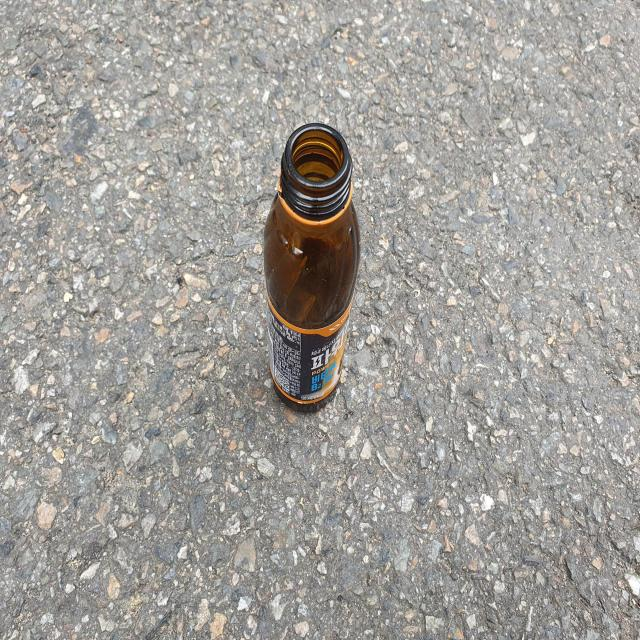glass: (264, 122, 360, 411)
